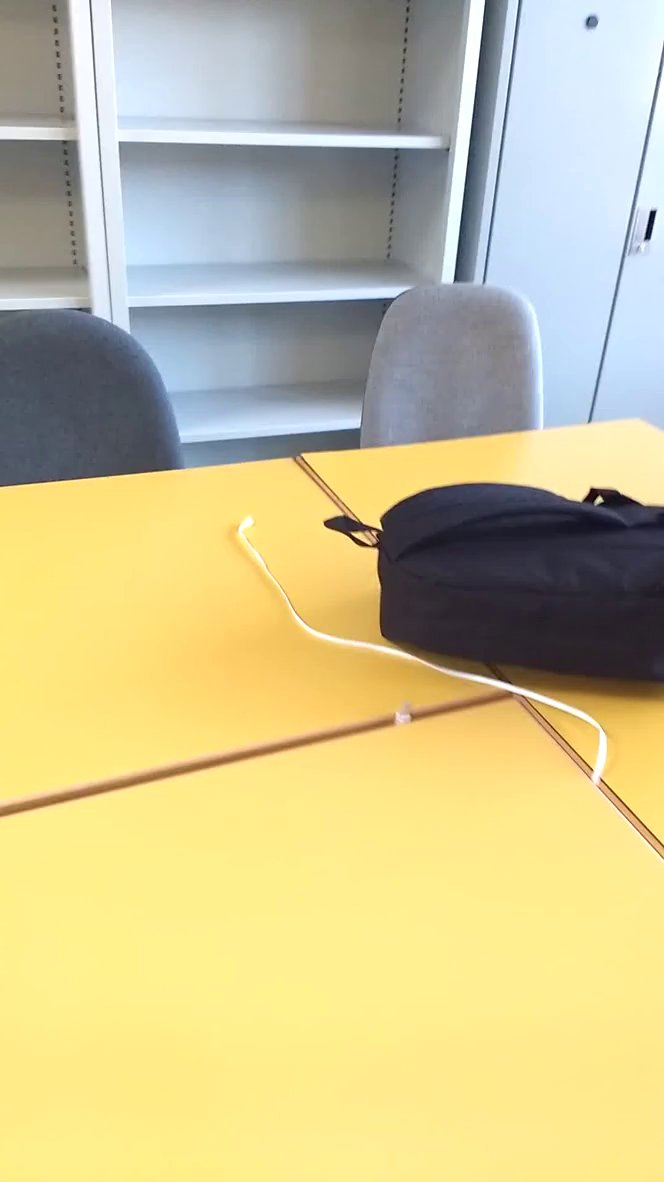bag: (317, 467, 664, 701)
chair: (342, 278, 573, 452), (1, 292, 196, 497)
